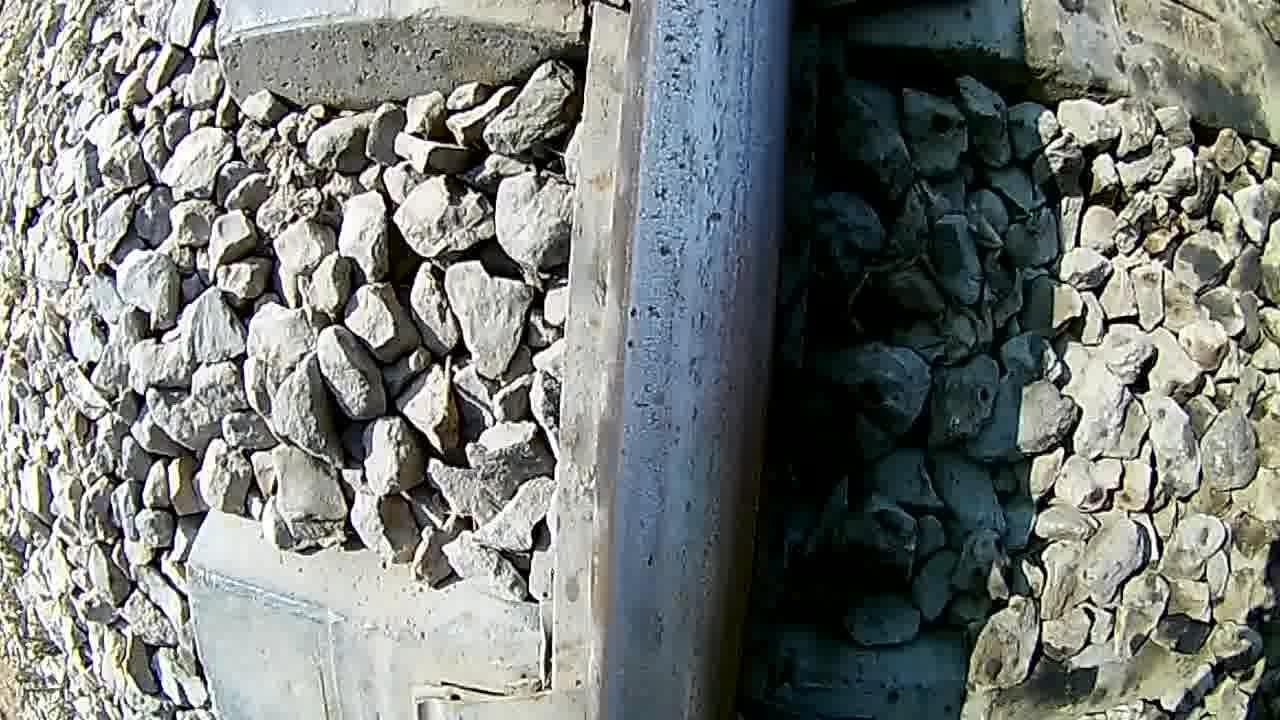crack: (594, 0, 786, 720)
